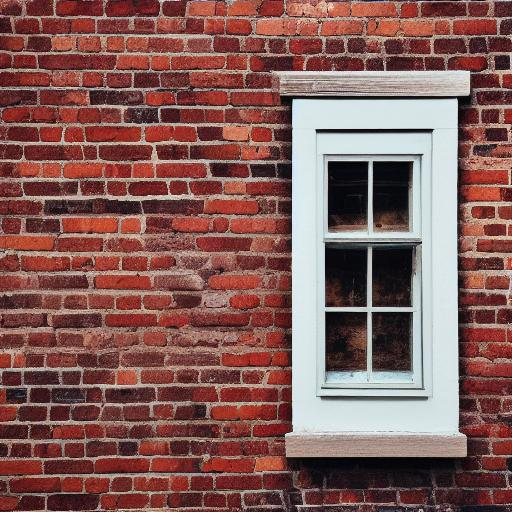Window: (275, 72, 473, 461)
